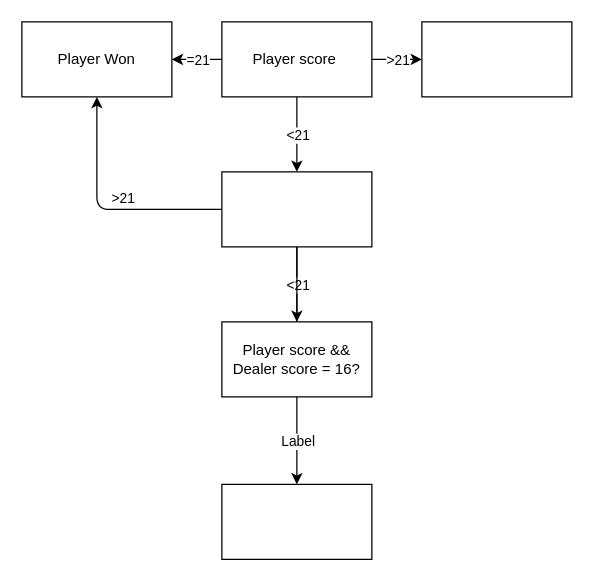
The diagram is 594 pixels wide and 581 high, and some of its shapes have lost their labels. The shapes that lost their labels are listed below. From the top down, each one's centre as x and y in pixels, then its label:
(496,59): Player Lost
(296,209): Dealer score
